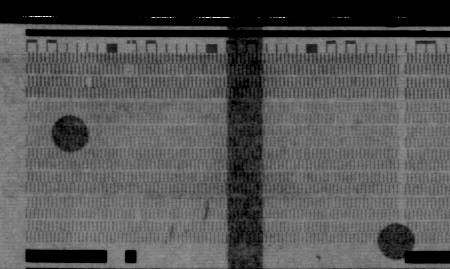Broken hole: (121, 64, 138, 77), (132, 207, 144, 220), (83, 74, 94, 87)
